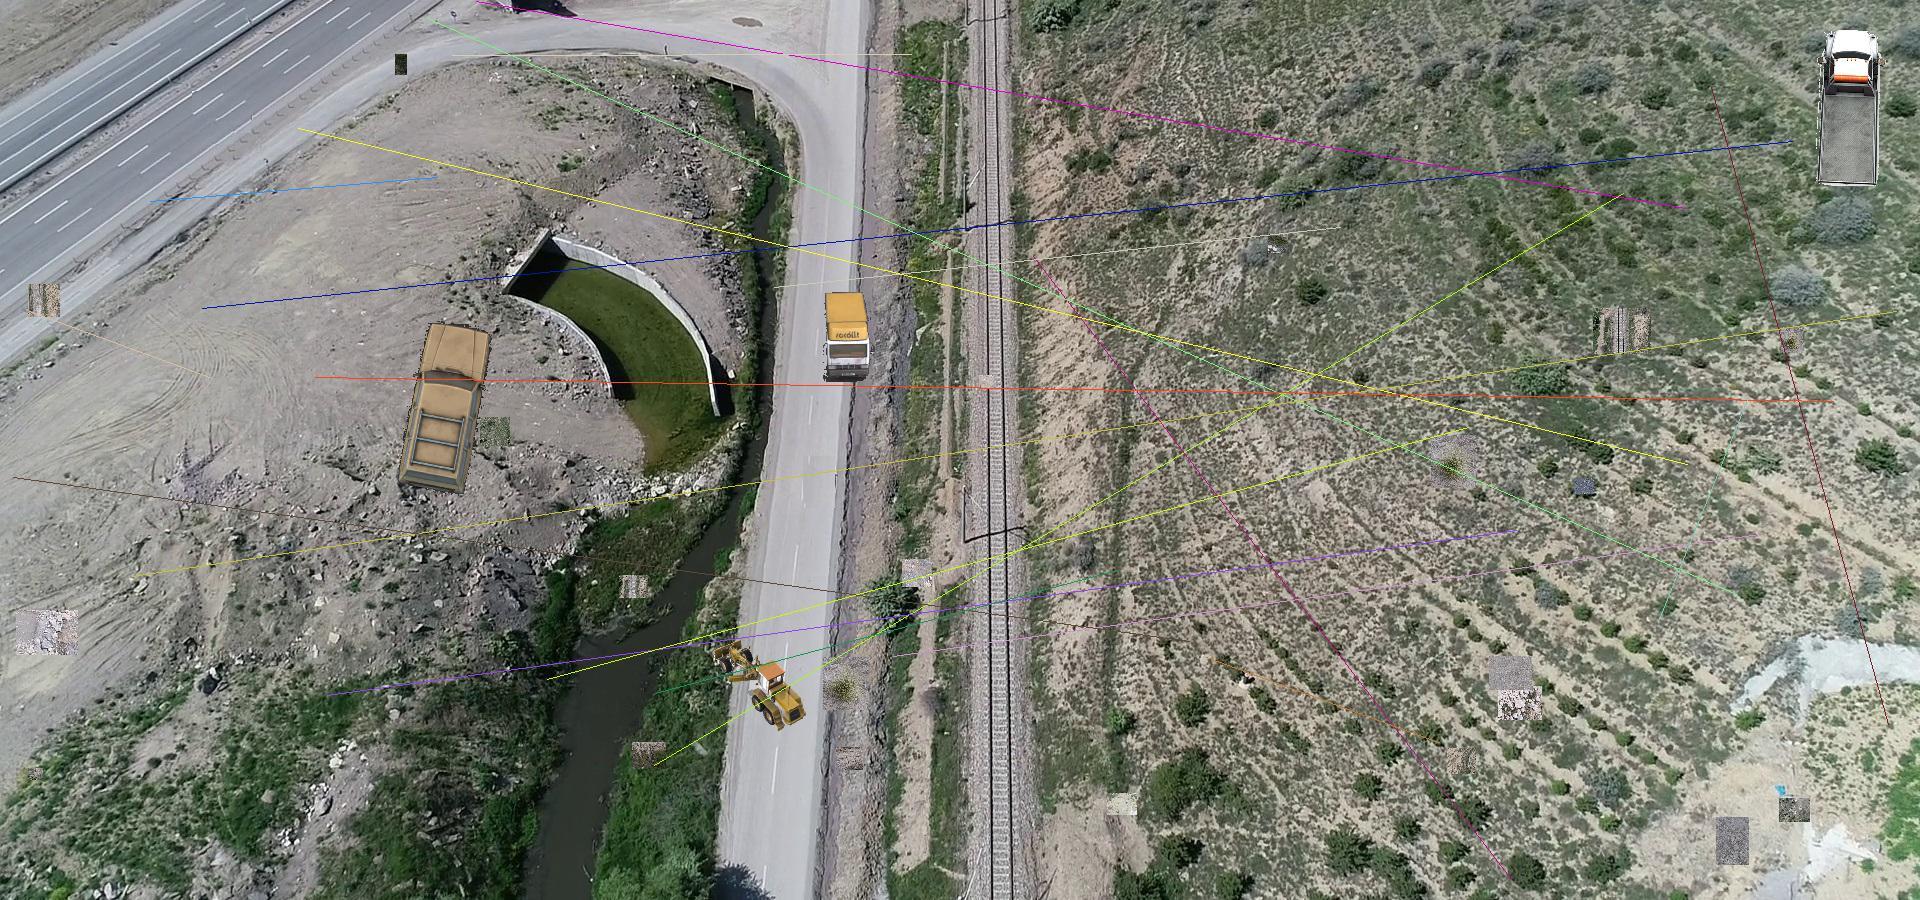arac: (398, 318, 492, 502), (1816, 29, 1886, 186), (710, 638, 807, 733), (823, 290, 877, 382)
